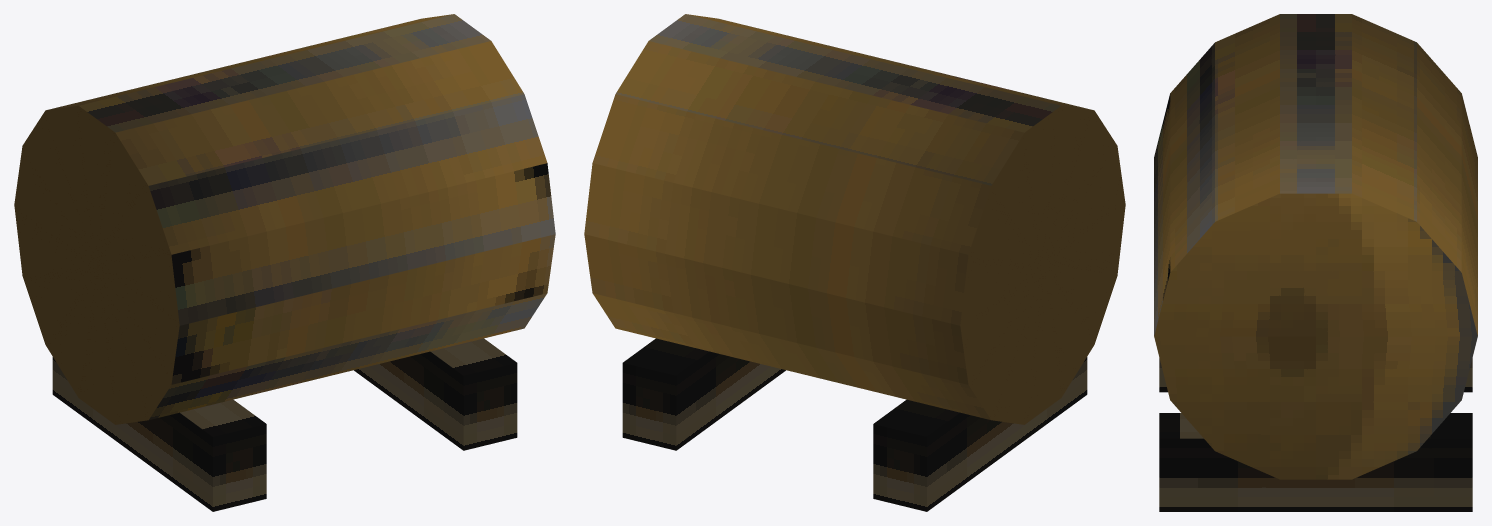
The model's file is Building_FermentingBarrel.glb.
The picture shows the model from 3 angles, left to right: view 1: azimuth 30°, elevation 25°; view 2: azimuth 150°, elevation 25°; view 3: azimuth 270°, elevation 25°; orthographic projection. The views are drawn at different scales.
Parts seen in each view (by area): view 1: FermentingBarrel; view 2: FermentingBarrel; view 3: FermentingBarrel.
Boxes of the visible parts, x1,y1,x2,y2 form: FermentingBarrel: (14, 14, 555, 511); FermentingBarrel: (584, 14, 1125, 511); FermentingBarrel: (1154, 14, 1477, 511).
Size of the model in its own units: 0.84 by 0.732 by 0.64.
1 material, 1 textured.
